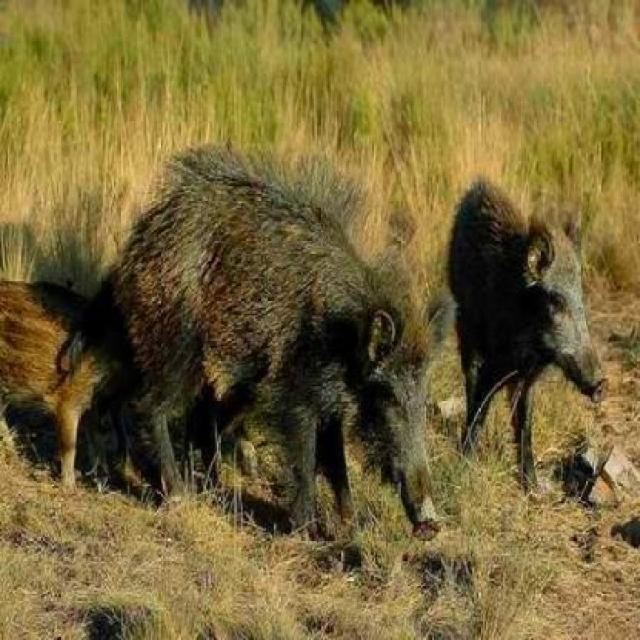Boar: (74, 108, 520, 580), (323, 96, 640, 484)
